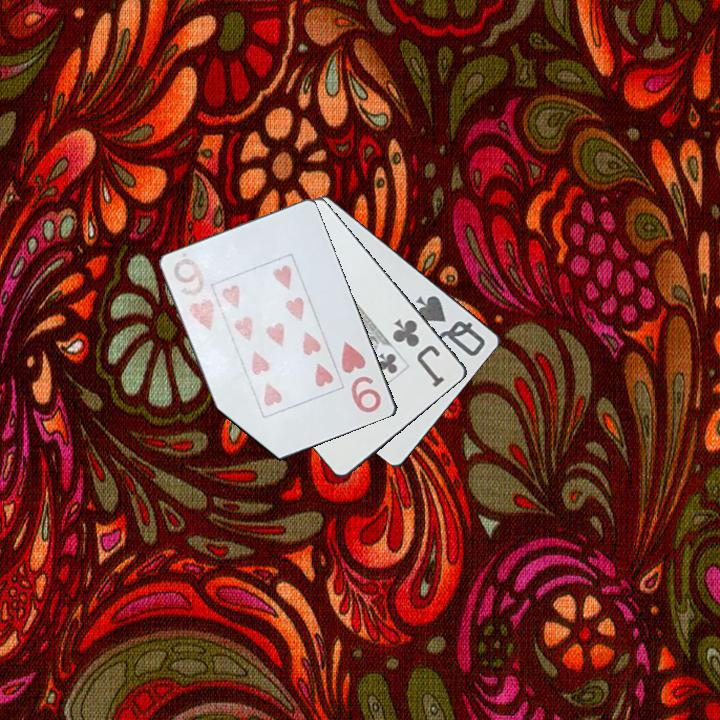9h: (170, 251, 218, 334), (338, 336, 385, 416)
Jc: (389, 315, 448, 391)
Qs: (412, 292, 489, 359)
